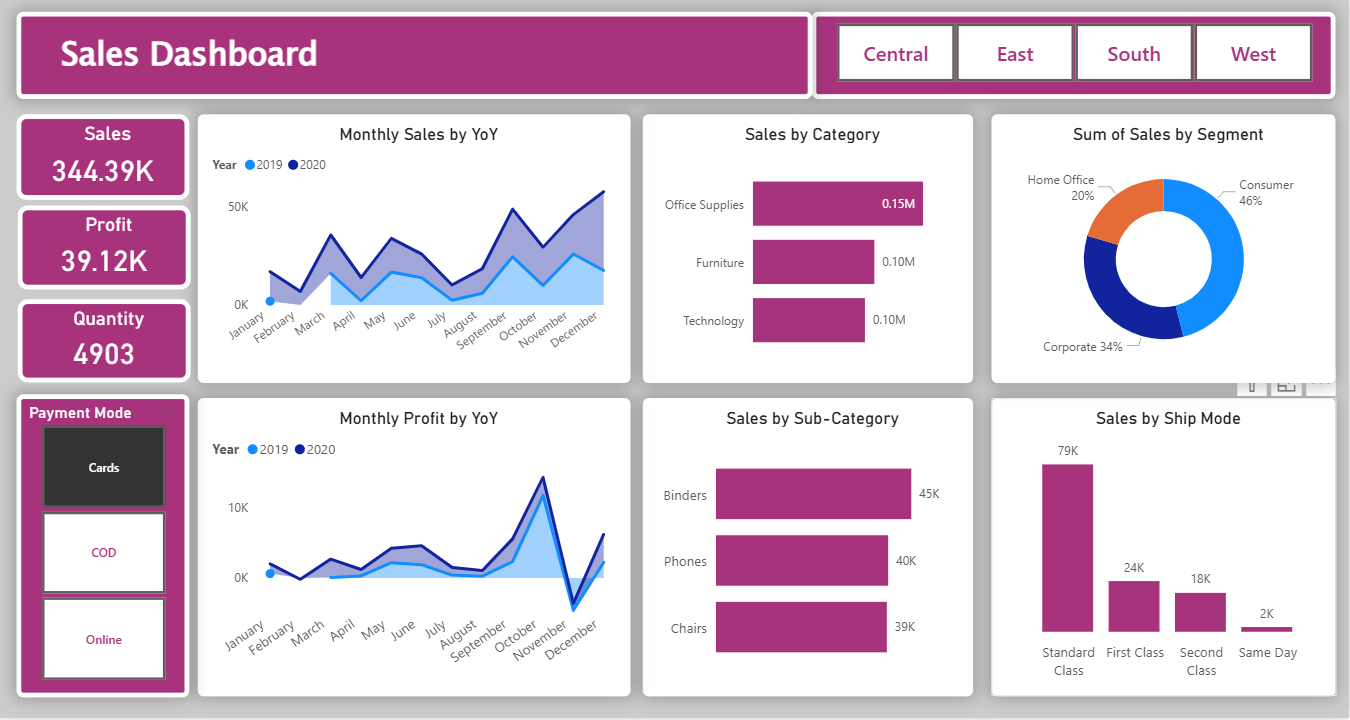

The page's visual inventory and layout, read from the dashboard file:
{"tool":"powerbi","page":{"name":"Page 1","canvas":[1350,720],"ordinal":0},"visuals":[{"type":"barChart","title":"Sales by Category","fields":{"Category":["SuperStore_Sales_Dataset.Category"],"Y":["Sum(SuperStore_Sales_Dataset.Sales)"]},"box":[644.3,115.7,330,268.6],"z":0},{"type":"barChart","title":"Sales by Sub-Category","fields":{"Category":["SuperStore_Sales_Dataset.Sub-Category"],"Y":["Sum(SuperStore_Sales_Dataset.Sales)"]},"box":[644.3,400,330,298.6],"z":1000},{"type":"columnChart","title":"Sales by Ship Mode","fields":{"Category":["SuperStore_Sales_Dataset.Ship Mode"],"Y":["Sum(SuperStore_Sales_Dataset.Sales)"]},"box":[992.9,400,344.3,298.6],"z":2000},{"type":"stackedAreaChart","title":"Monthly Sales by YoY","fields":{"Y":["Sum(SuperStore_Sales_Dataset.Sales)"],"Category":["SuperStore_Sales_Dataset.Order Date.Variation.Date Hierarchy.Month","SuperStore_Sales_Dataset.Order Date.Variation.Date Hierarchy.Day"],"Series":["SuperStore_Sales_Dataset.Order Date.Variation.Date Hierarchy.Year"]},"box":[198.6,115.7,432.9,268.6],"z":3000},{"type":"stackedAreaChart","title":"Monthly Profit by YoY","fields":{"Category":["SuperStore_Sales_Dataset.Order Date.Variation.Date Hierarchy.Month","SuperStore_Sales_Dataset.Order Date.Variation.Date Hierarchy.Day"],"Series":["SuperStore_Sales_Dataset.Order Date.Variation.Date Hierarchy.Year"],"Y":["Sum(SuperStore_Sales_Dataset.Profit)"]},"box":[198.6,400,432.9,298.6],"z":4000},{"type":"slicer","fields":{"Values":["SuperStore_Sales_Dataset.Region"]},"box":[812.9,14.3,524.3,87.1],"z":5000},{"type":"textbox","box":[17.1,14.3,795.7,87.1],"z":6000},{"type":"donutChart","fields":{"Category":["SuperStore_Sales_Dataset.Segment"],"Y":["Sum(SuperStore_Sales_Dataset.Sales)"]},"box":[992.9,115.7,344.3,268.6],"z":7000},{"type":"slicer","fields":{"Values":["SuperStore_Sales_Dataset.Payment Mode"]},"box":[17.1,395.7,172.9,302.9],"z":8000},{"type":"card","title":"Sales","fields":{"Values":["Sum(SuperStore_Sales_Dataset.Sales)"]},"box":[17.1,115.7,172.9,85.7],"z":9000},{"type":"card","title":"Quantity","fields":{"Values":["Sum(SuperStore_Sales_Dataset.Quantity)"]},"box":[18.6,301.4,172.9,82.9],"z":10000},{"type":"card","title":"Profit","fields":{"Values":["Sum(SuperStore_Sales_Dataset.Profit)"]},"box":[18.6,207.1,172.9,84.3],"z":11000}]}

Visuals, with their boxes in screenshot pixels (x1, y1, x2, y2), scaled from the page's 1350x720 canvas onto the 1350x720 screenshot:
"Sales by Category" barChart: crop(644, 116, 974, 384)
"Sales by Sub-Category" barChart: crop(644, 400, 974, 699)
"Sales by Ship Mode" columnChart: crop(993, 400, 1337, 699)
"Monthly Sales by YoY" stackedAreaChart: crop(199, 116, 632, 384)
"Monthly Profit by YoY" stackedAreaChart: crop(199, 400, 632, 699)
slicer - SuperStore_Sales_Dataset.Region: crop(813, 14, 1337, 101)
textbox: crop(17, 14, 813, 101)
donutChart - SuperStore_Sales_Dataset.Segment x Sum(SuperStore_Sales_Dataset.Sales): crop(993, 116, 1337, 384)
slicer - SuperStore_Sales_Dataset.Payment Mode: crop(17, 396, 190, 699)
"Sales" card: crop(17, 116, 190, 201)
"Quantity" card: crop(19, 301, 192, 384)
"Profit" card: crop(19, 207, 192, 291)
